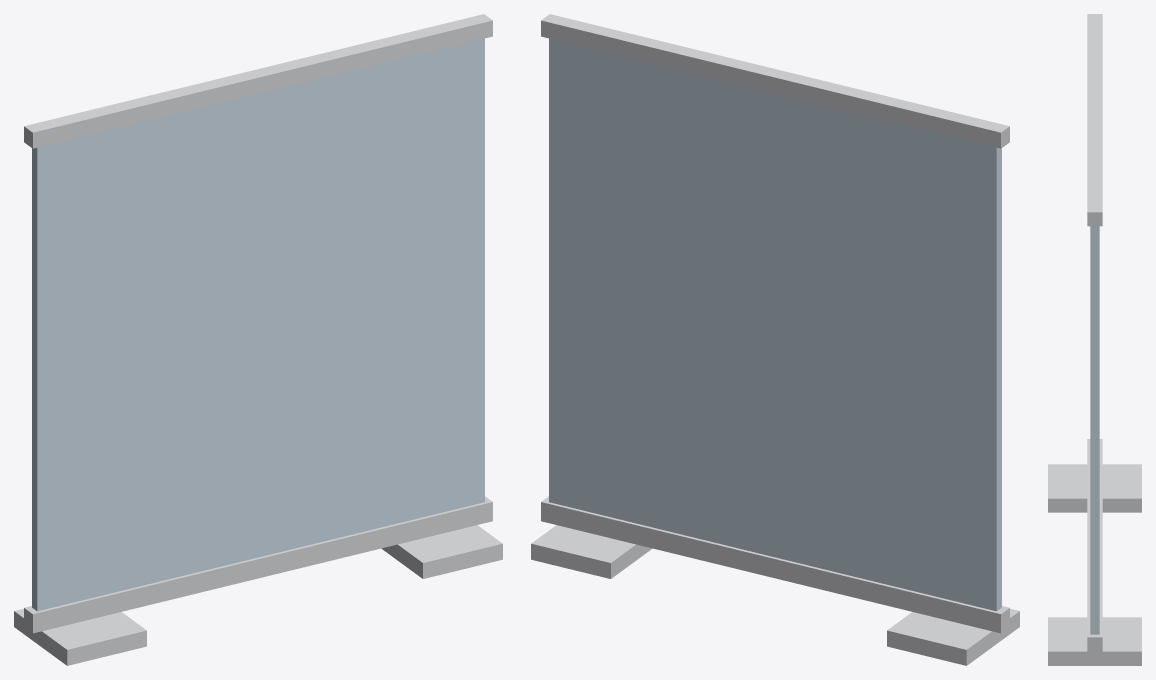
The model's file is partition-PRIM-002.glb.
3 renders of one model, left to right at view 1: azimuth 30°, elevation 25°; view 2: azimuth 150°, elevation 25°; view 3: azimuth 270°, elevation 25°, orthographic. The views are drawn at different scales.
Visible parts, largest first — view 1: p0, p1, p2, p3, p4; view 2: p0, p1, p2, p3, p4; view 3: p0, p4, p3, p1, p2.
Part boxes in pixels (x1,y1,x2,y2): p0: [32, 38, 484, 611]; p1: [24, 14, 492, 148]; p2: [24, 496, 492, 633]; p3: [14, 608, 146, 665]; p4: [381, 525, 502, 578]; p0: [549, 38, 1001, 611]; p1: [541, 14, 1009, 148]; p2: [541, 496, 1009, 633]; p3: [887, 608, 1019, 665]; p4: [531, 525, 652, 578]; p0: [1090, 226, 1099, 634]; p4: [1048, 617, 1141, 665]; p3: [1048, 464, 1141, 512]; p1: [1087, 14, 1102, 226]; p2: [1087, 439, 1102, 654].
Bounding box in the file's own units: 1.5 × 1.62 × 0.3.
